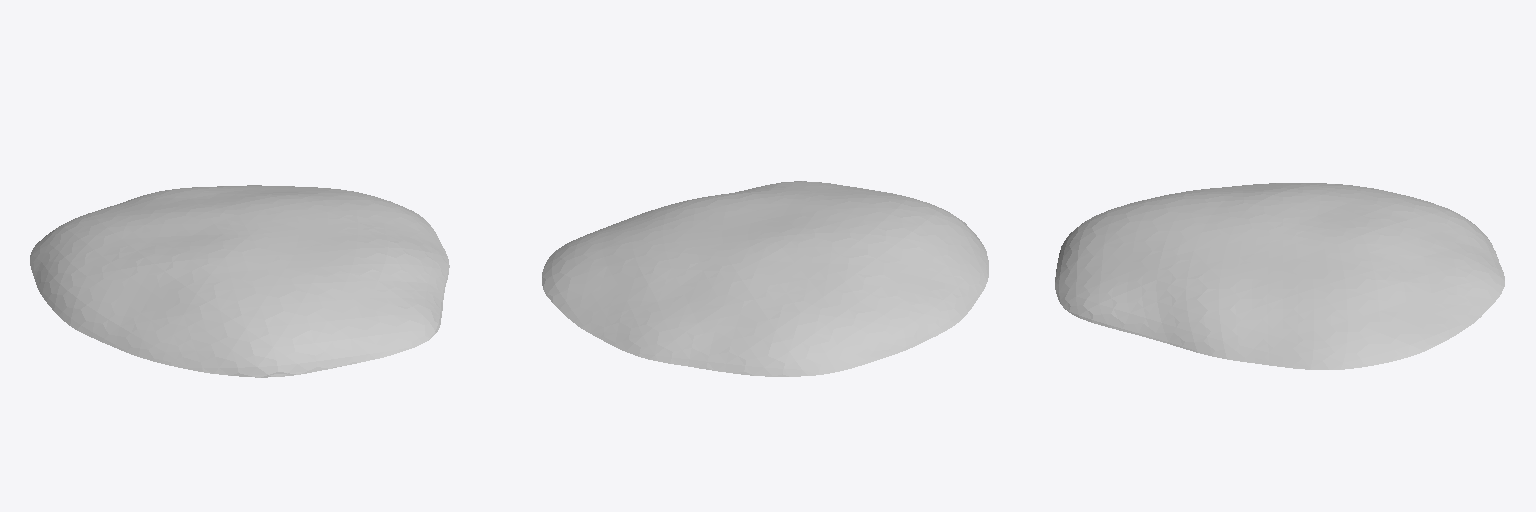
The model's file is SandBankMiddle.obj.
The picture shows the model from 3 angles: view 1: azimuth 30°, elevation 25°; view 2: azimuth 150°, elevation 25°; view 3: azimuth 270°, elevation 25°; orthographic projection.
Visible parts, largest first — view 1: SandBankMiddle; view 2: SandBankMiddle; view 3: SandBankMiddle.
Boxes of the visible parts, x1,y1,x2,y2 form: SandBankMiddle: [30, 185, 449, 377]; SandBankMiddle: [542, 181, 988, 376]; SandBankMiddle: [1055, 183, 1504, 369].
Size of the model in its own units: 1.29 by 0.1487 by 1.34.